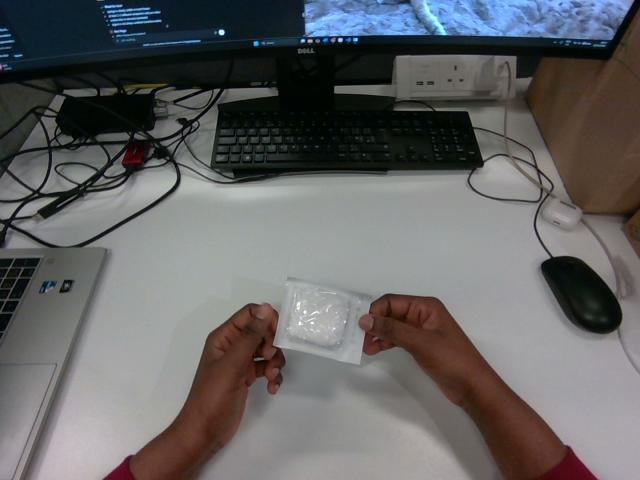gauze: (274, 278, 371, 363)
